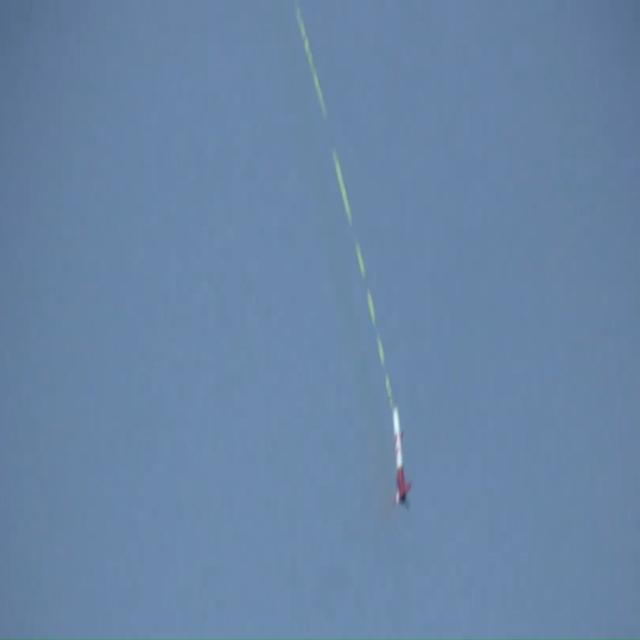Rocket: (392, 408, 412, 510)
